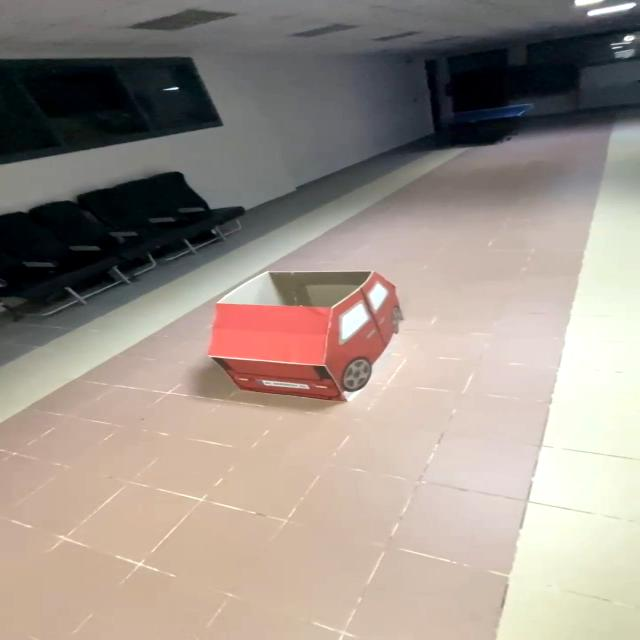red_car: (175, 256, 464, 427)
